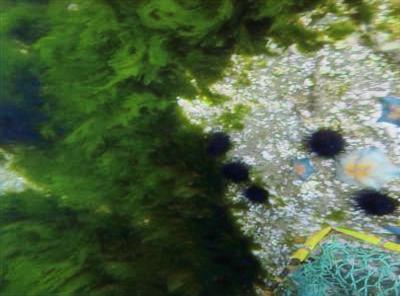urchin: (354, 186, 400, 219), (306, 125, 349, 159), (202, 130, 235, 154), (241, 183, 271, 207), (223, 159, 250, 182)
